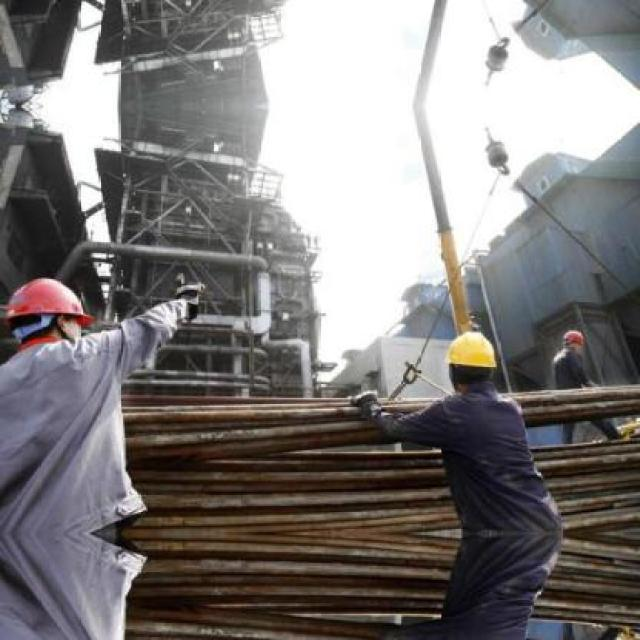helmet: (1, 272, 97, 356), (442, 325, 502, 395), (561, 329, 587, 354)
